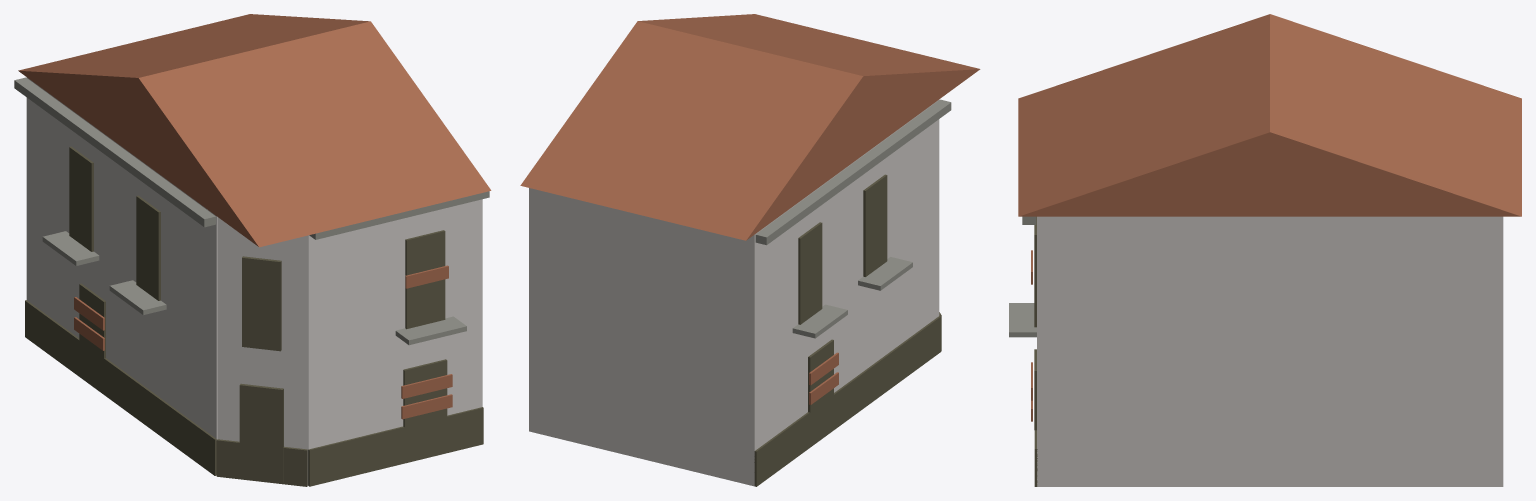
The model's file is SM_Esquina_v4_Tapiada_LOD1.fbx.
The picture shows the model from 3 angles, left to right: view 1: azimuth 30°, elevation 25°; view 2: azimuth 150°, elevation 25°; view 3: azimuth 270°, elevation 25°; orthographic projection. The views are drawn at different scales.
Parts seen in each view (by area): view 1: SM_pueblo_valenciano_v4_LOD1; view 2: SM_pueblo_valenciano_v4_LOD1; view 3: SM_pueblo_valenciano_v4_LOD1.
Boxes of the visible parts, bbox=[...] form: SM_pueblo_valenciano_v4_LOD1: bbox=[14, 14, 491, 486]; SM_pueblo_valenciano_v4_LOD1: bbox=[520, 14, 980, 486]; SM_pueblo_valenciano_v4_LOD1: bbox=[1009, 14, 1521, 486].
Bounding box in the file's own units: 6.6 × 8.4 × 11.
